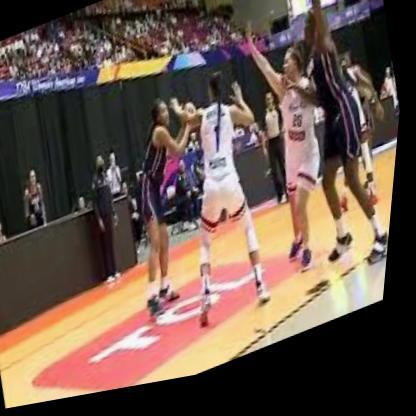basketball: (179, 108, 203, 143)
